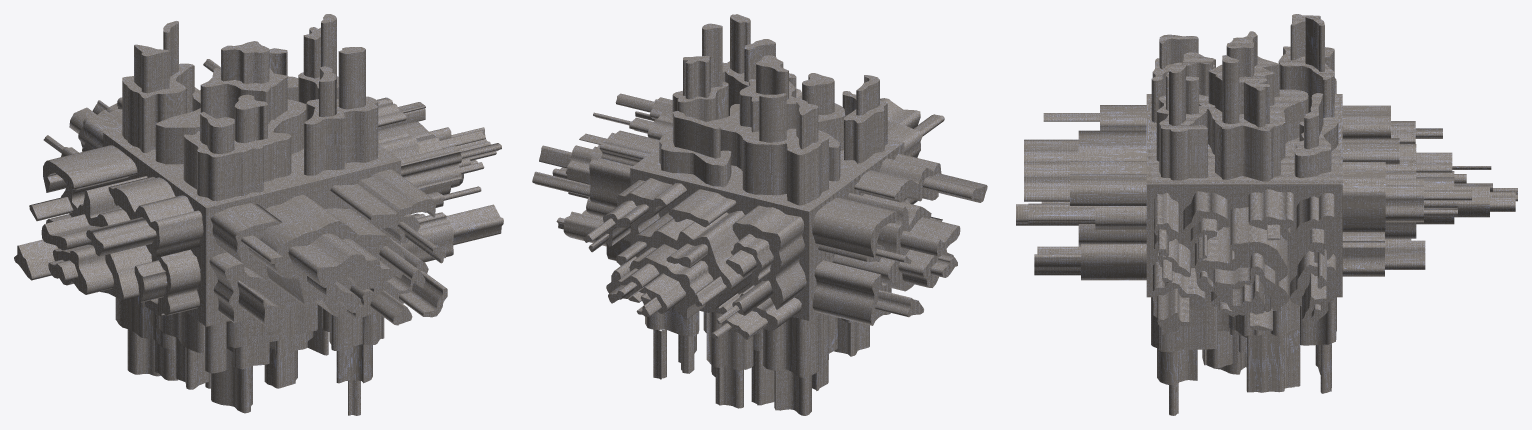
The picture shows the model from 3 angles, left to right: view 1: azimuth 30°, elevation 25°; view 2: azimuth 150°, elevation 25°; view 3: azimuth 270°, elevation 25°; orthographic projection. The views are drawn at different scales.
Parts seen in each view (by area): view 1: SketchUp (×65); view 2: SketchUp (×65); view 3: SketchUp (×60).
Boxes of the visible parts, box(x1,y1,x2,y2) form: SketchUp (×65): box(14, 14, 503, 415); SketchUp (×65): box(532, 14, 987, 415); SketchUp (×60): box(1024, 14, 1515, 393).
Bounding box in the file's own units: 1512 × 1586 × 1239.
Materials: 3 (1 with a texture image).
